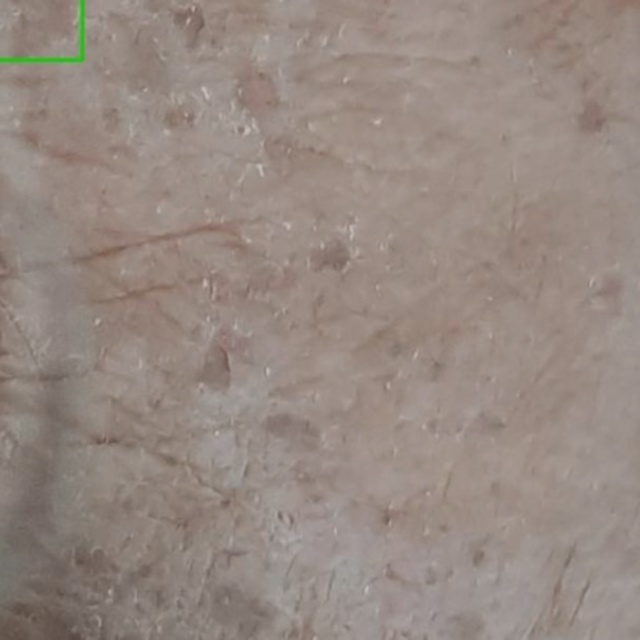Seborrheic Dermatitis: (0, 0, 82, 60)
